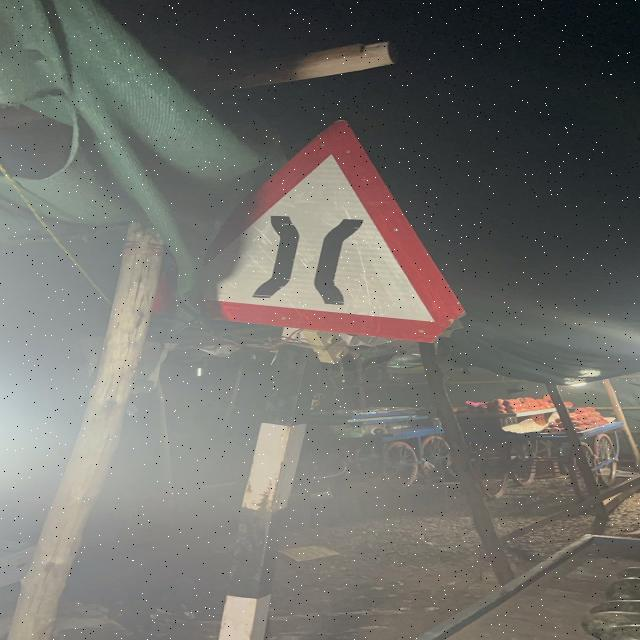Narrow_Bridge: (175, 120, 459, 344)
